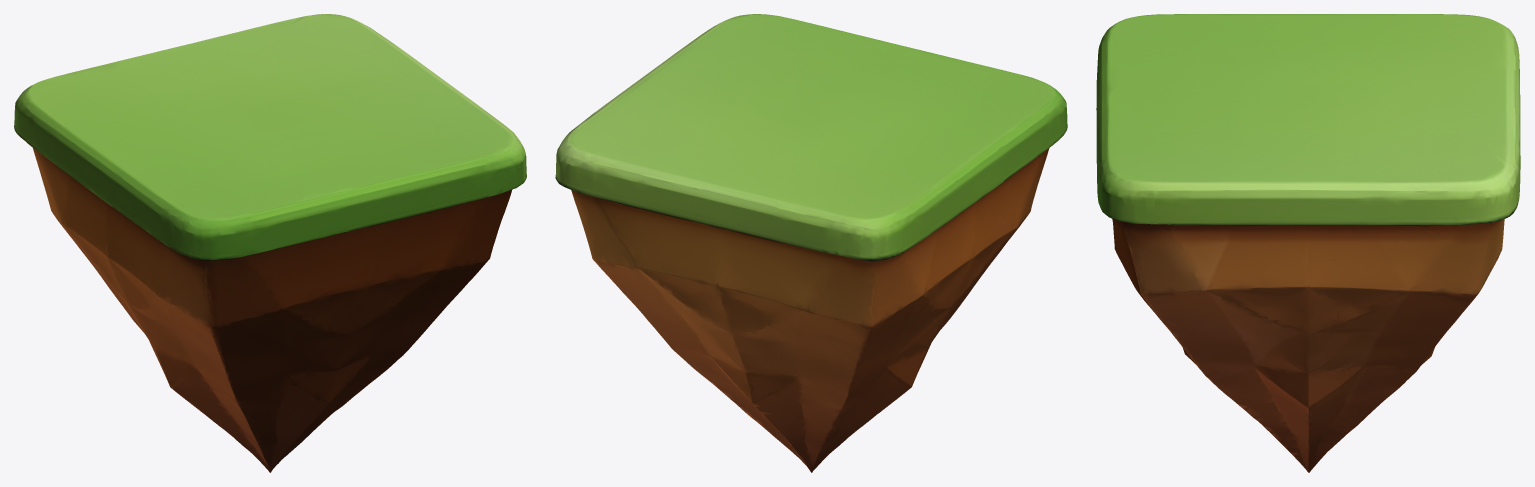
Rendered from island.glb.
3 views of the same model, side by side, from view 1: azimuth 30°, elevation 25°; view 2: azimuth 150°, elevation 25°; view 3: azimuth 270°, elevation 25° (orthographic). The views are drawn at different scales.
Parts seen in each view (by area): view 1: geometry_0; view 2: geometry_0; view 3: geometry_0.
Part boxes in pixels (<box>): geometry_0: <box>14,14,526,472</box>; geometry_0: <box>555,14,1067,472</box>; geometry_0: <box>1096,14,1520,472</box>.
Bounding box in the file's own units: 0.9892 × 0.9666 × 0.9882.
Materials: 1 (1 with a texture image).
